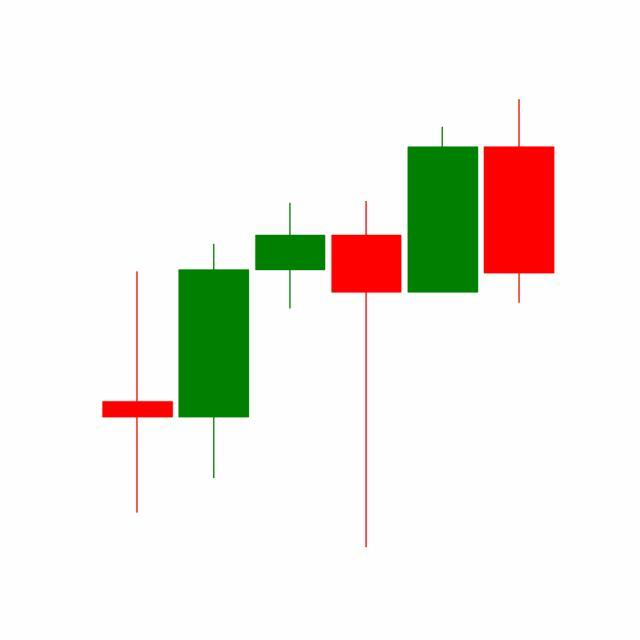Marubozu: (404, 125, 482, 295)
